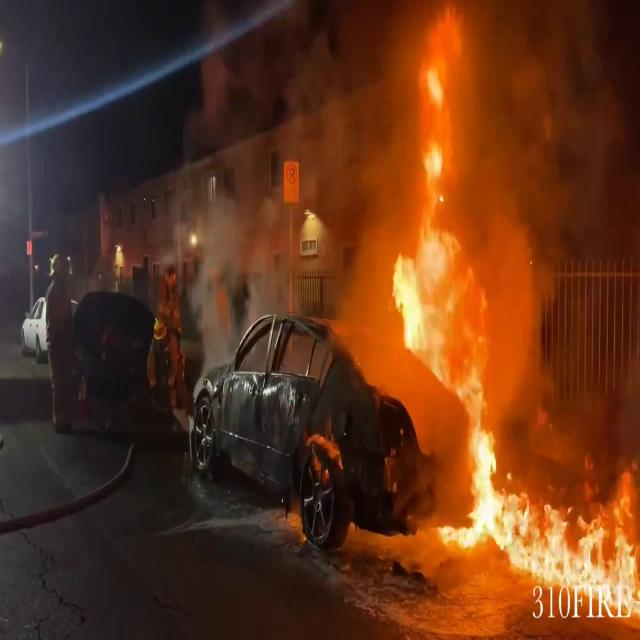Fire: (387, 2, 494, 408), (446, 420, 640, 630)
Smoke: (201, 0, 640, 352)
